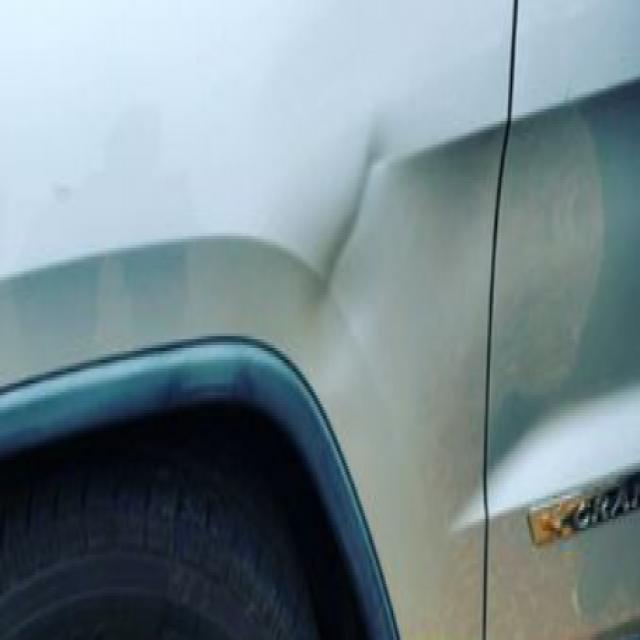dents: (308, 116, 394, 330)
